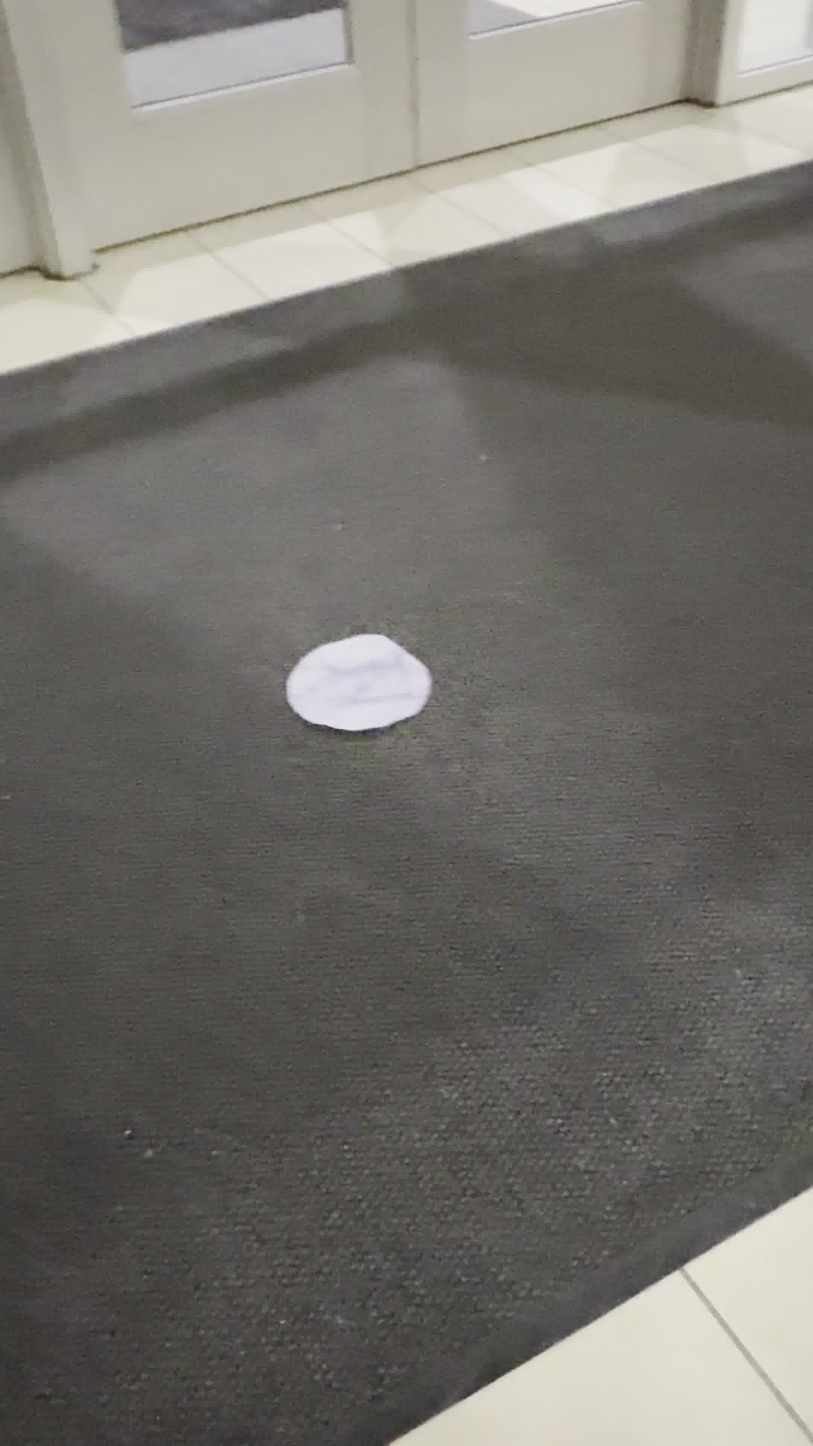Target: (284, 634, 432, 731)
